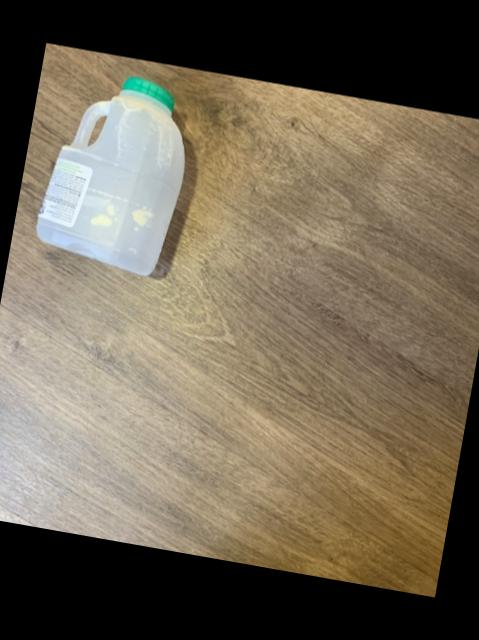plastic: (33, 76, 180, 273)
